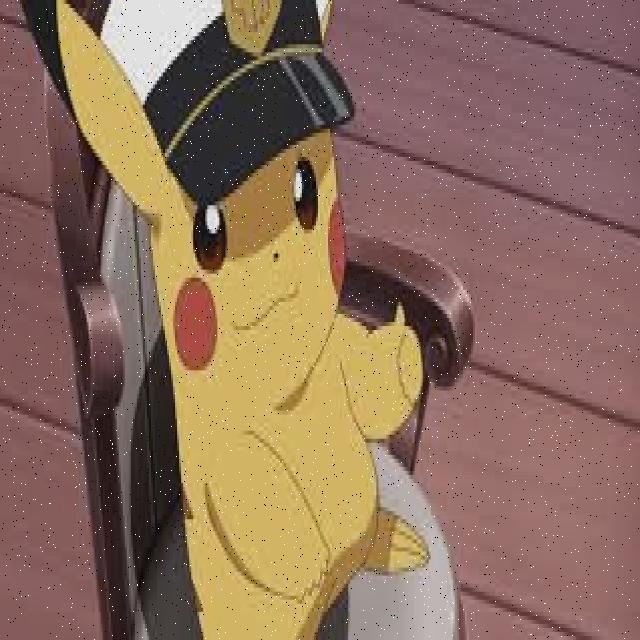pikachu: (90, 0, 422, 640)
